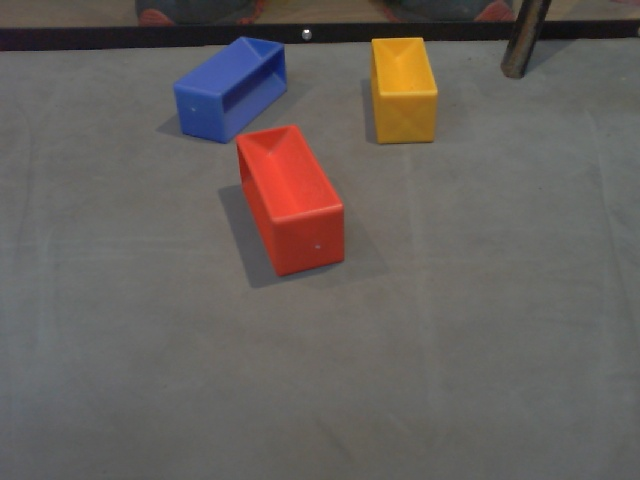BlueSample: (168, 35, 289, 145)
RedSample: (229, 122, 348, 283)
YellowSample: (364, 34, 444, 148)
